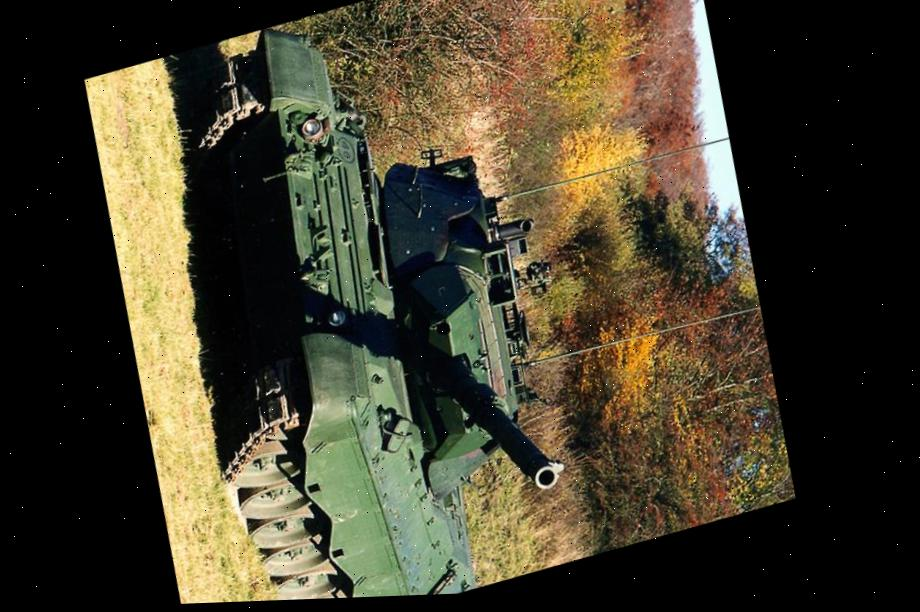tank: (98, 0, 645, 607)
